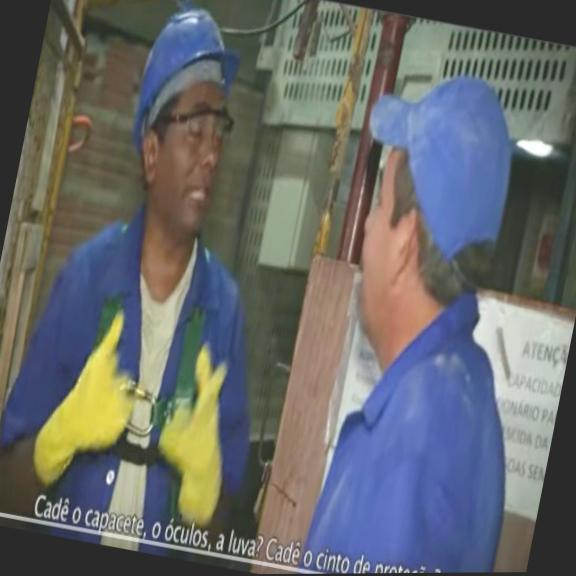no_safety_vest: (0, 190, 298, 570), (293, 271, 546, 574)
